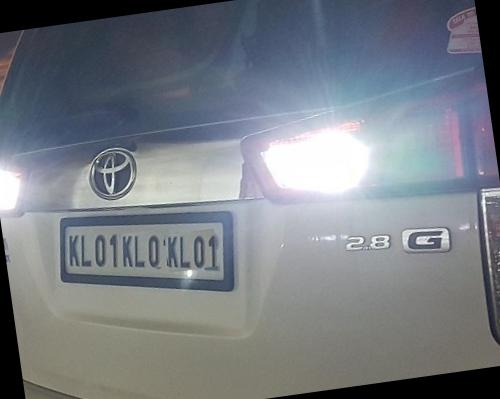plate: (49, 185, 260, 320)
